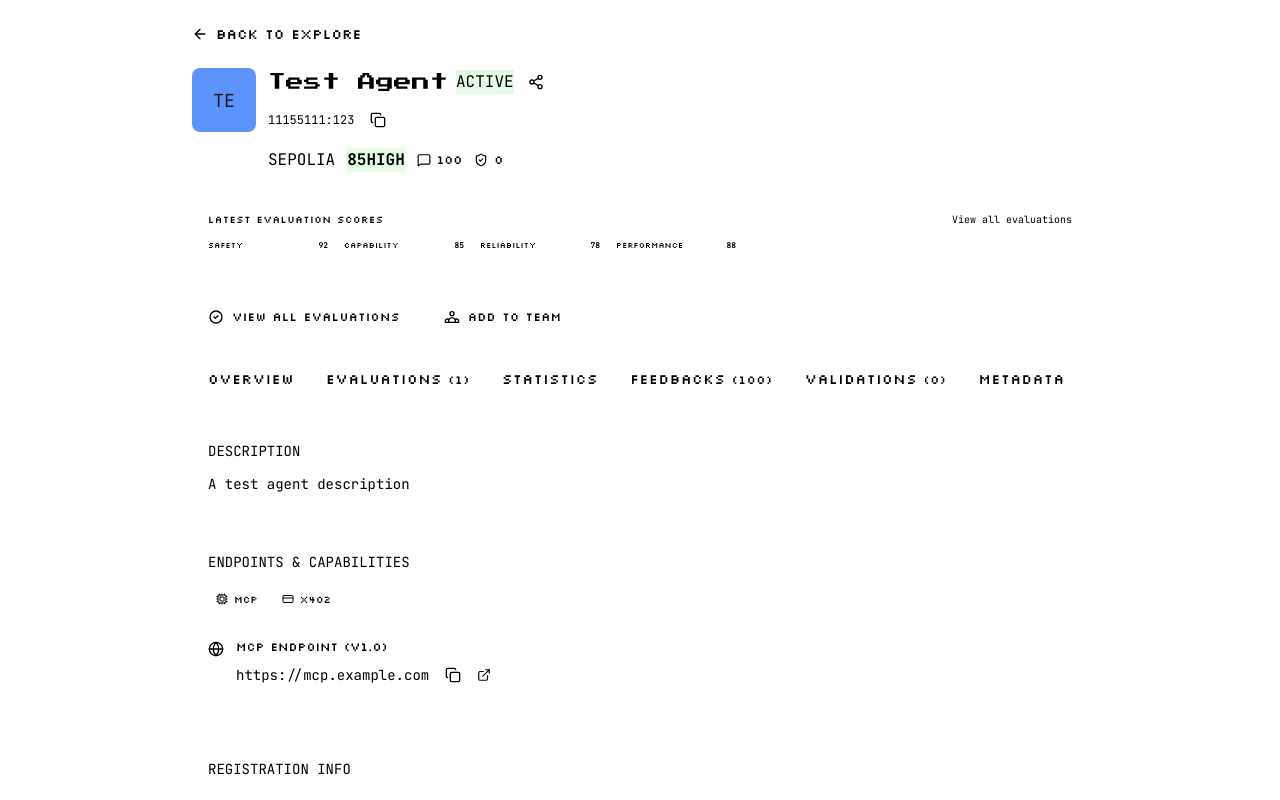
Test case: AgentDetailTemplate › evaluations tab › switches to evaluations tab when clicked
The image size is (1280, 800).
What coordinates should you click on to do the following:
click the tab "Evaluations(1)"
I would click on:
 (398, 379)
Its box is [310, 357, 486, 401].
(page scrolled)
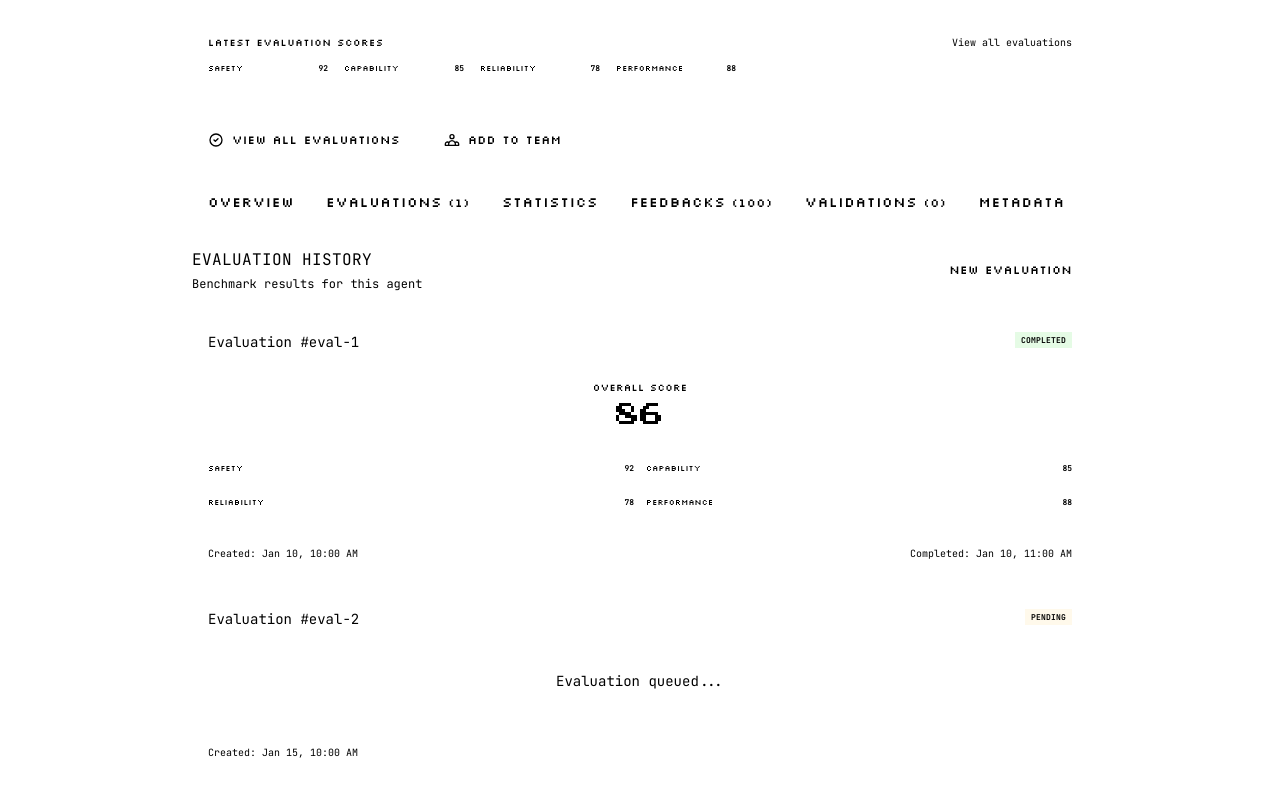
Expected: the element with test id "evaluations-tab-content" is shown, [192, 248, 1088, 776]
